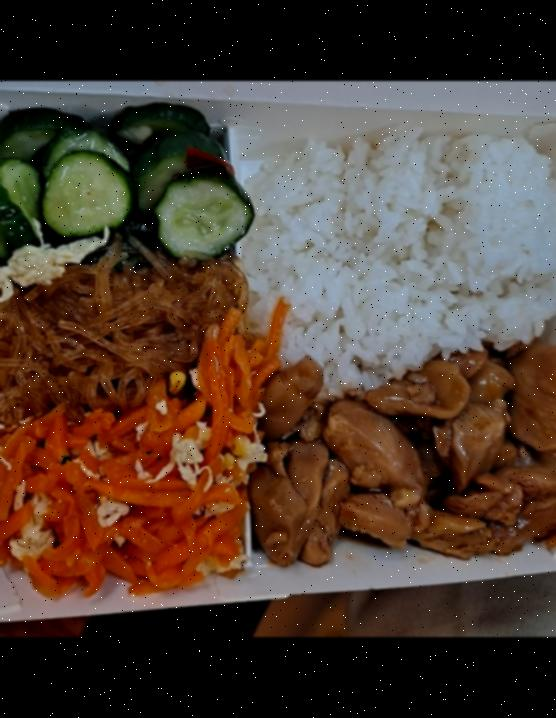big grilled chicken leg: (0, 81, 556, 628)
big herbal chicken leg: (241, 128, 556, 391)
braised fish fillet: (0, 305, 290, 595), (0, 96, 258, 264), (0, 248, 243, 416)
braised pork: (250, 345, 556, 572)
